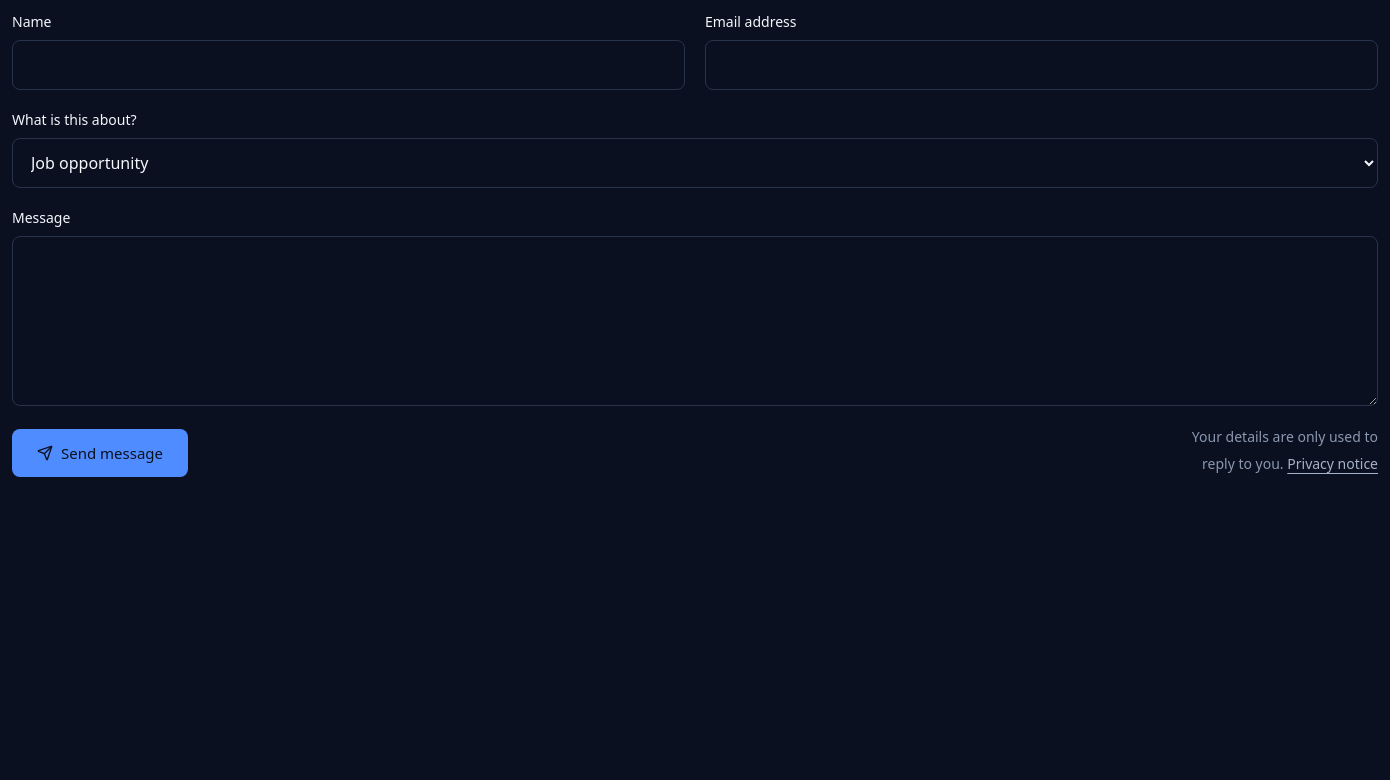
Test: ContactForm › shows an error when the network request fails
Type "Amina Otieno" into the field labelled "Name". click: (348, 65)
box: [12, 40, 685, 90]
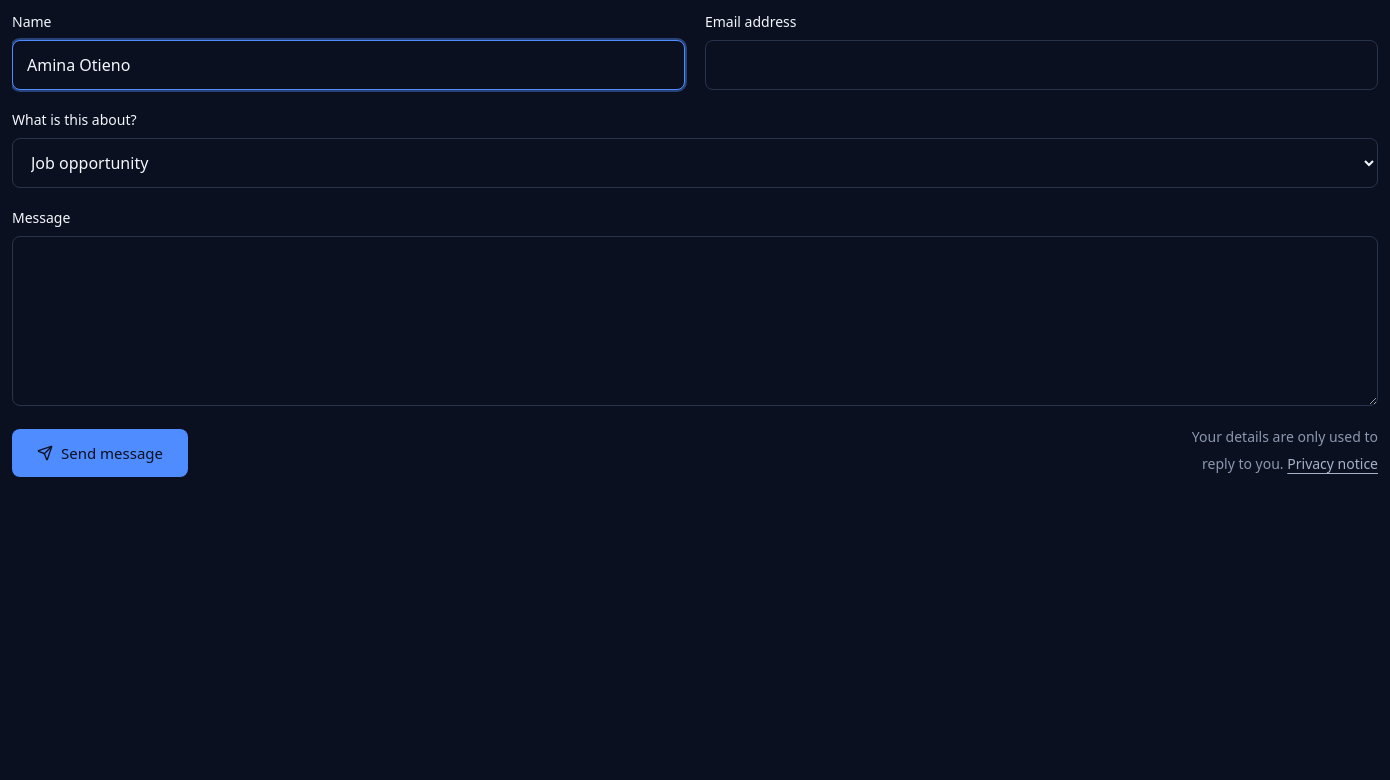
Type "amina@example.com" into the field labelled "Email address". click: (1042, 65)
box: [705, 40, 1378, 90]
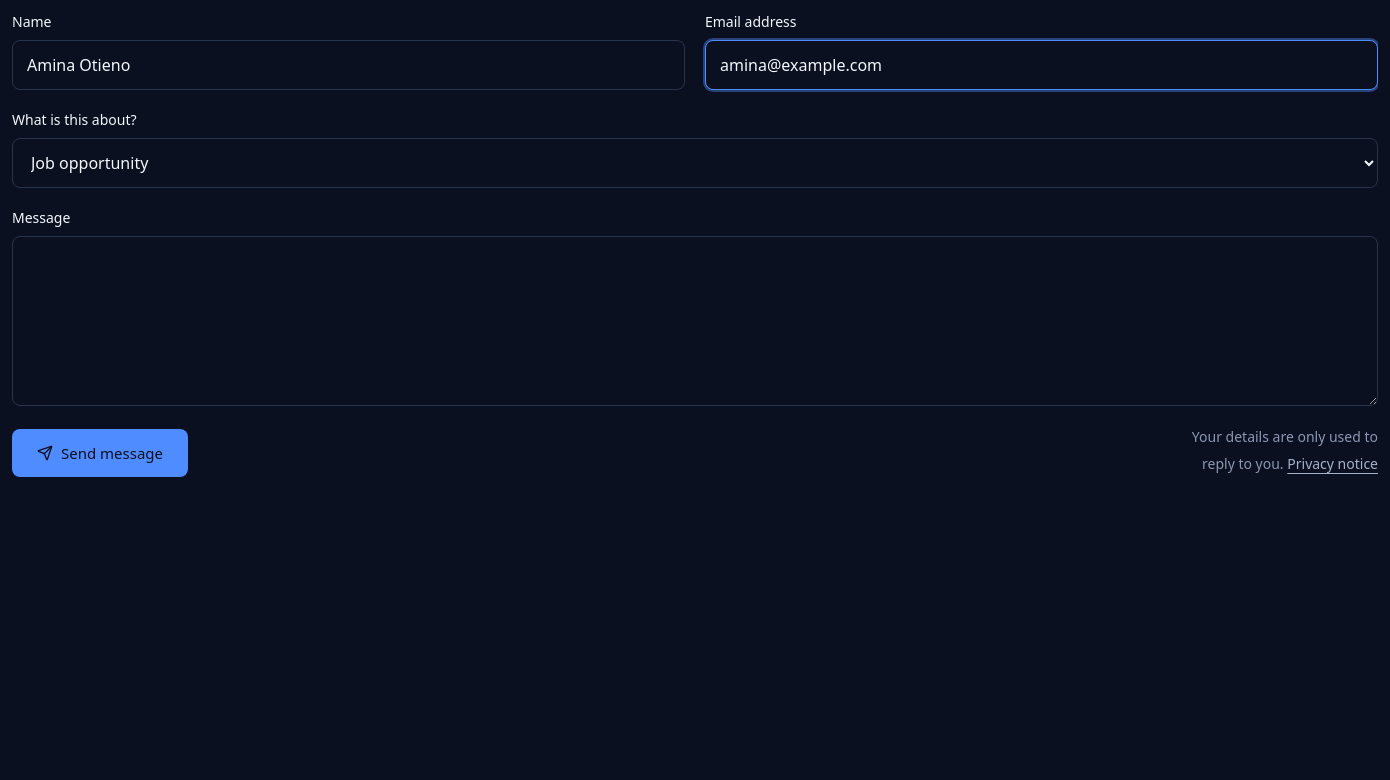
Type "I would like to talk about a role." into the text box labelled "Message". click: (695, 321)
box: [12, 236, 1378, 406]
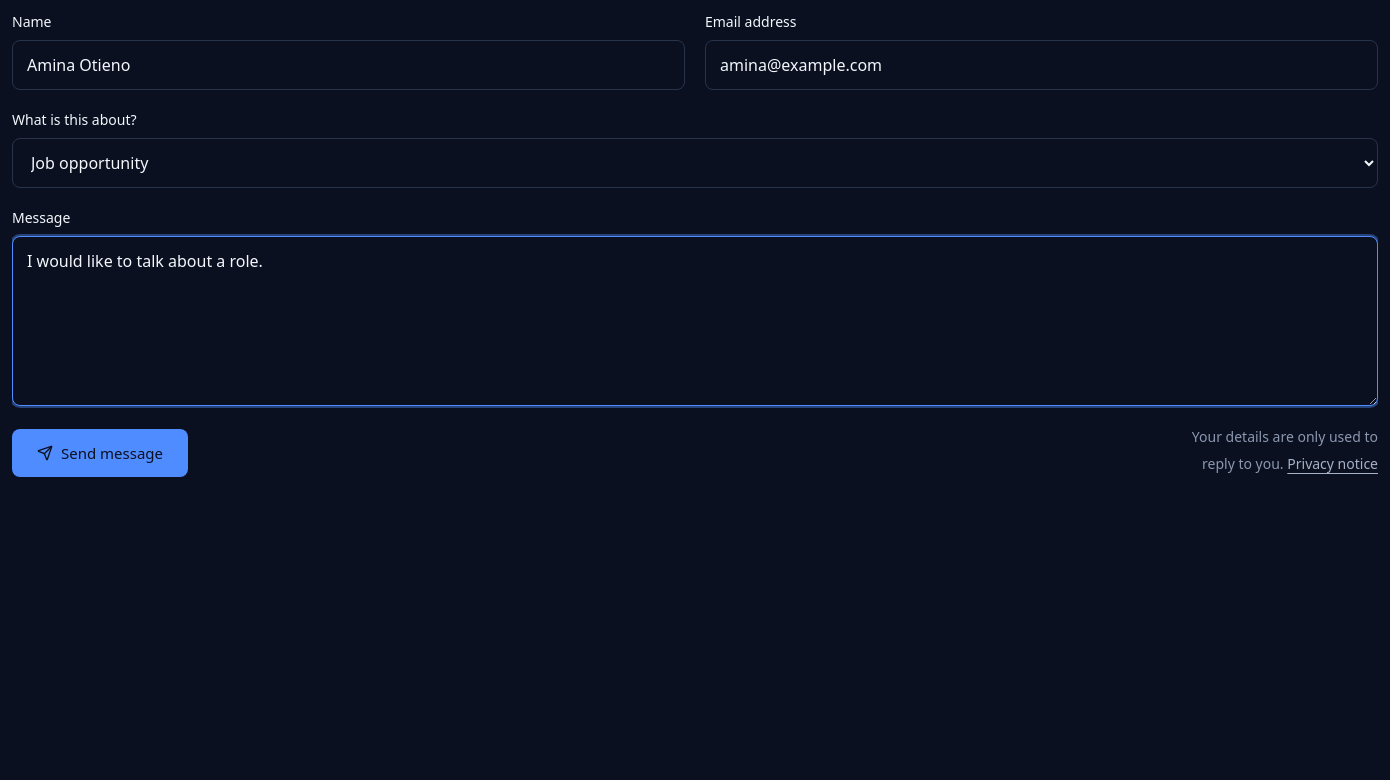
Click the button "Send message". click: click(100, 453)
box: [12, 429, 188, 477]
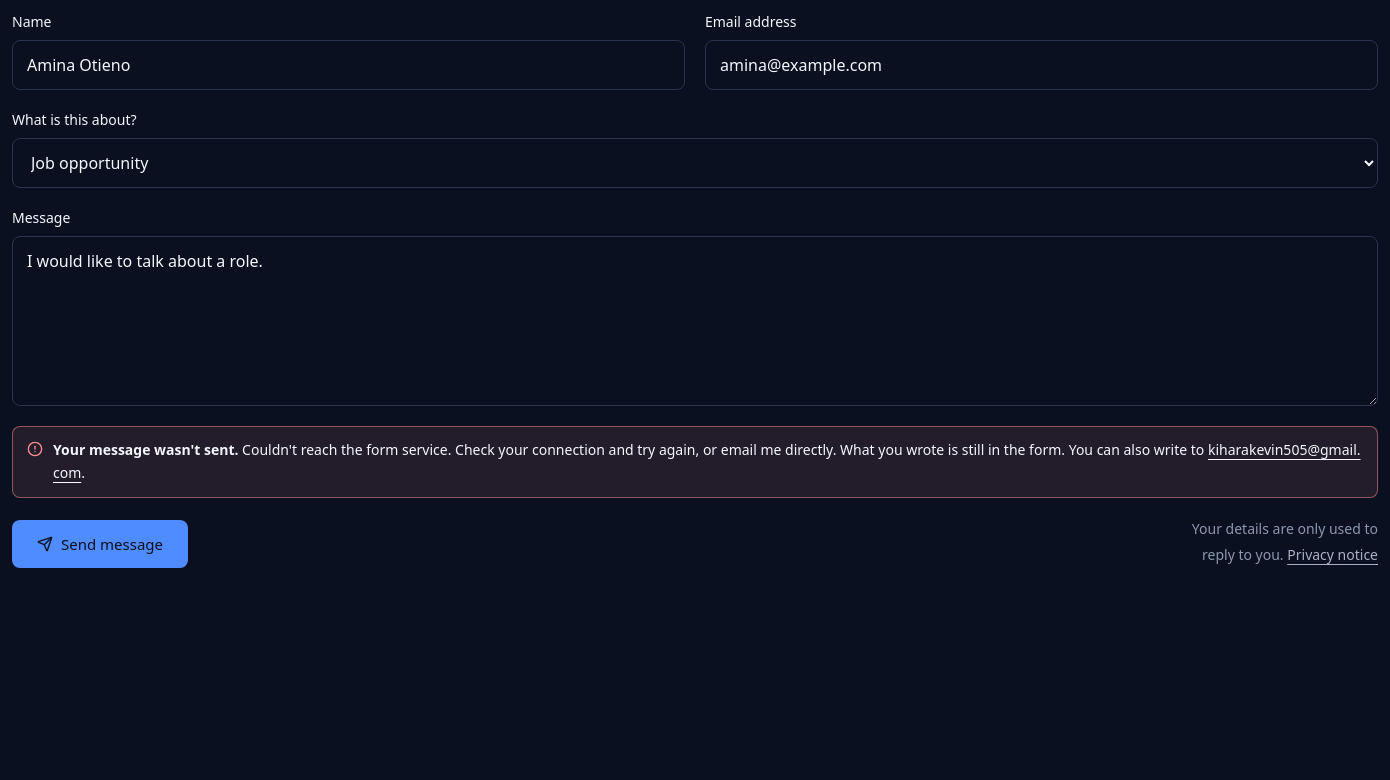
Expected: the message shows "Couldn't reach the form service.", [242, 440, 836, 459]
